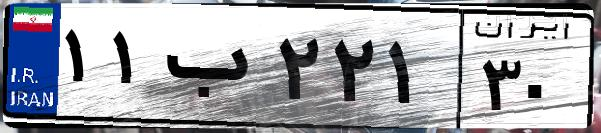0: (525, 38, 570, 115)
1: (385, 28, 445, 110), (57, 26, 110, 100), (110, 28, 158, 98)
2: (270, 28, 330, 110), (330, 28, 385, 110)
3: (475, 38, 525, 113)
ب: (158, 20, 270, 120)
